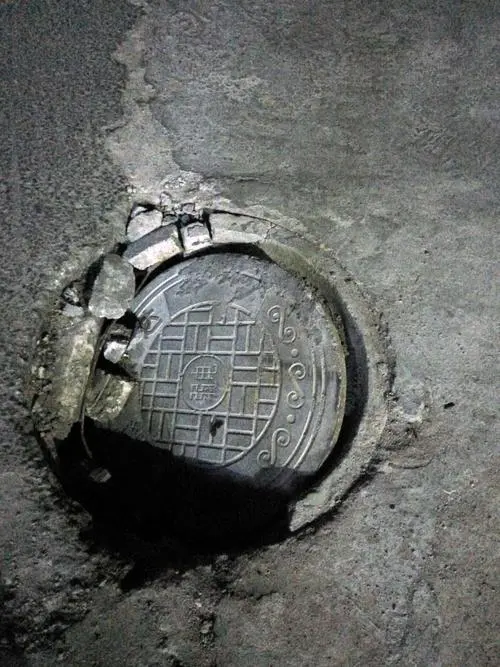circle: (15, 209, 407, 567)
